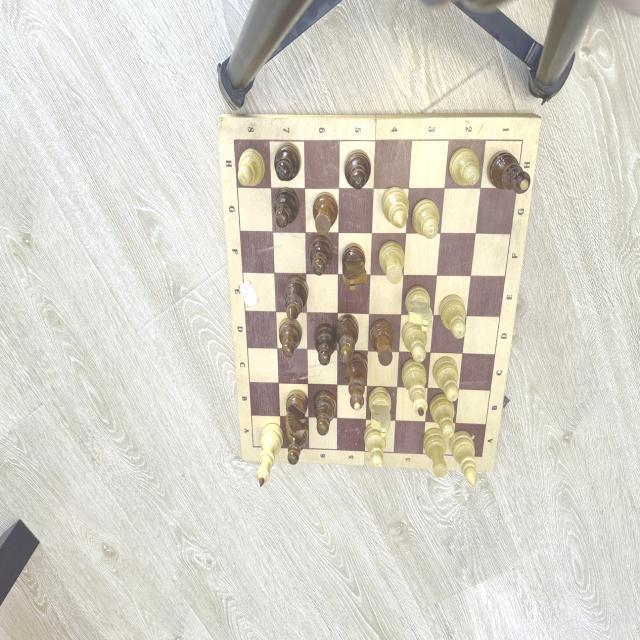chess-table-corners: (228, 133, 238, 146), (516, 136, 526, 148), (250, 441, 258, 452), (478, 452, 485, 460)
